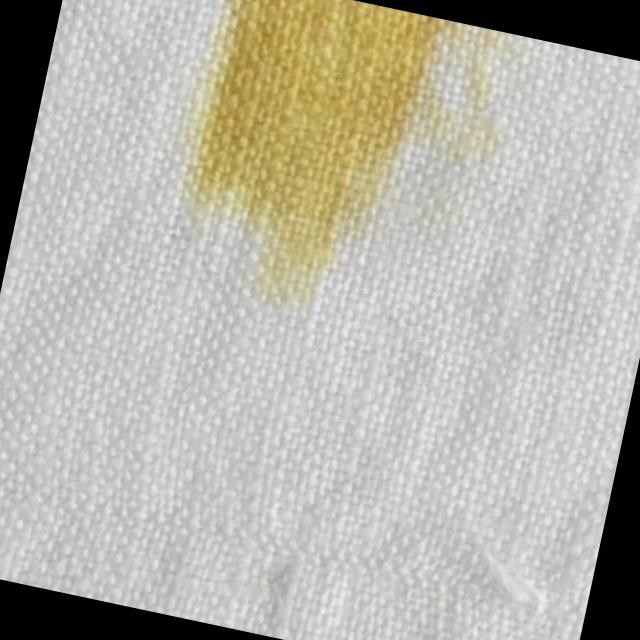Stain: (151, 0, 524, 353)
